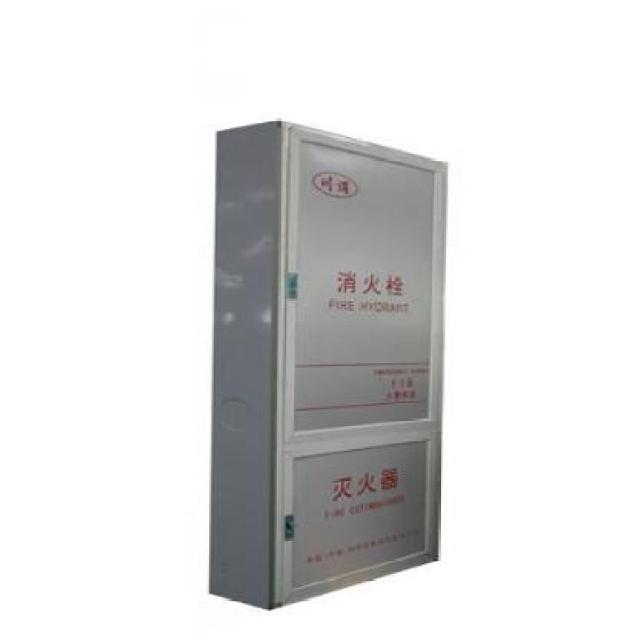firehydrant: (198, 112, 452, 616)
